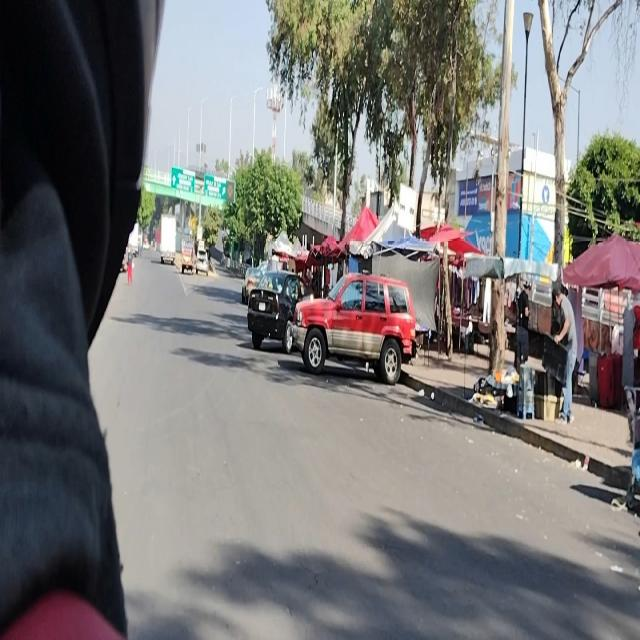adult: (552, 279, 577, 421), (517, 280, 532, 366)
